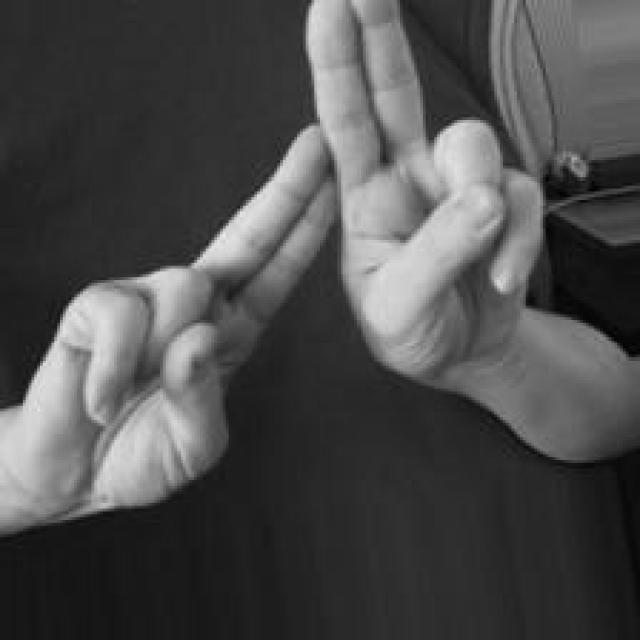K: (19, 1, 548, 538)
